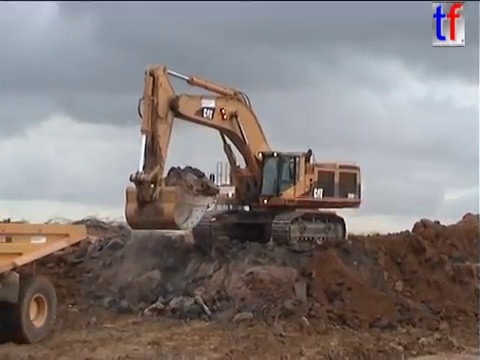excavator: (122, 62, 364, 253)
truck: (1, 219, 91, 346), (205, 184, 340, 238)
